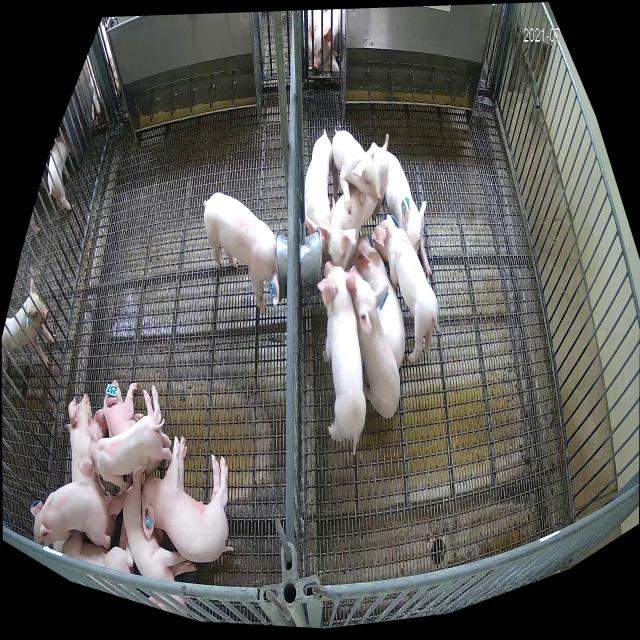pig: (142, 434, 233, 564), (123, 463, 198, 616), (371, 215, 439, 363), (318, 133, 389, 273), (317, 261, 366, 458), (204, 193, 279, 316), (350, 265, 400, 418), (77, 415, 172, 495), (351, 233, 404, 364), (385, 150, 432, 275), (30, 481, 110, 550), (53, 522, 136, 574), (304, 128, 335, 265), (332, 131, 381, 214), (94, 381, 145, 435), (65, 393, 92, 484)
